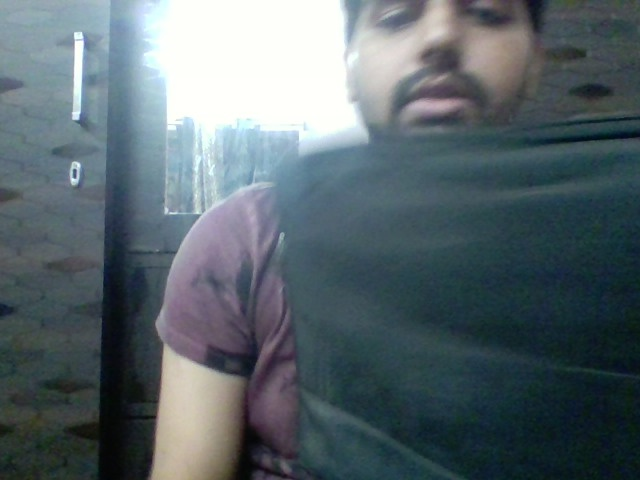p: (143, 453, 205, 472)
